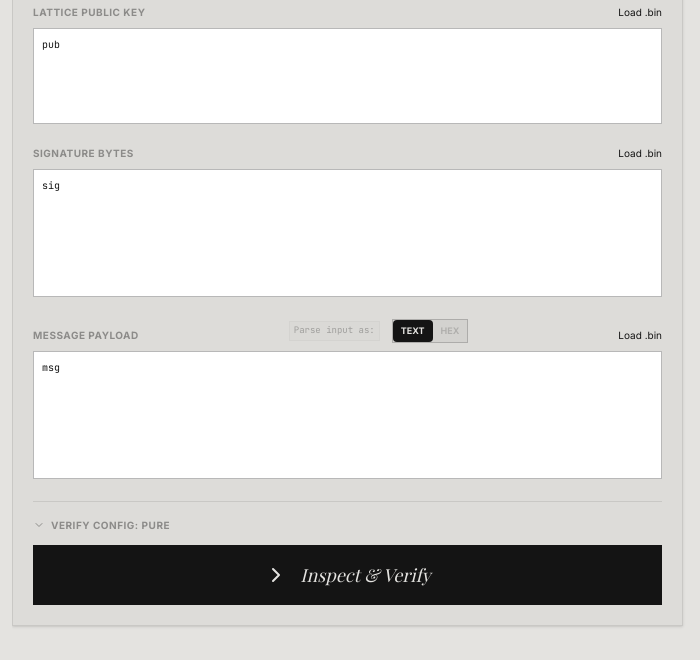
it: InspectTab › handles verification failure
The width and height of the screenshot is (700, 660).
Step 1. Click the button "Inspect & Verify" → (348,574), box [33, 544, 662, 604]
(page scrolled)
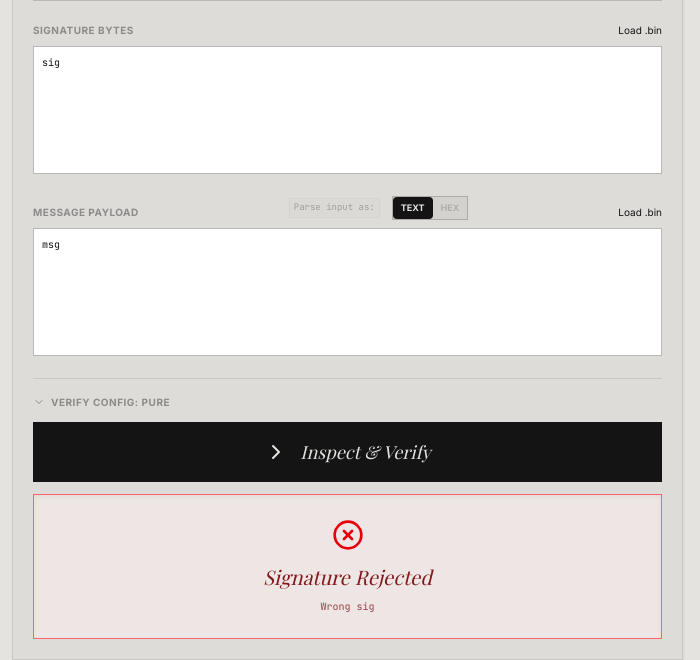
Now the text "Signature Rejected" is shown, box [263, 562, 432, 590]
Now the text "Wrong sig" is shown, box [320, 600, 374, 612]
